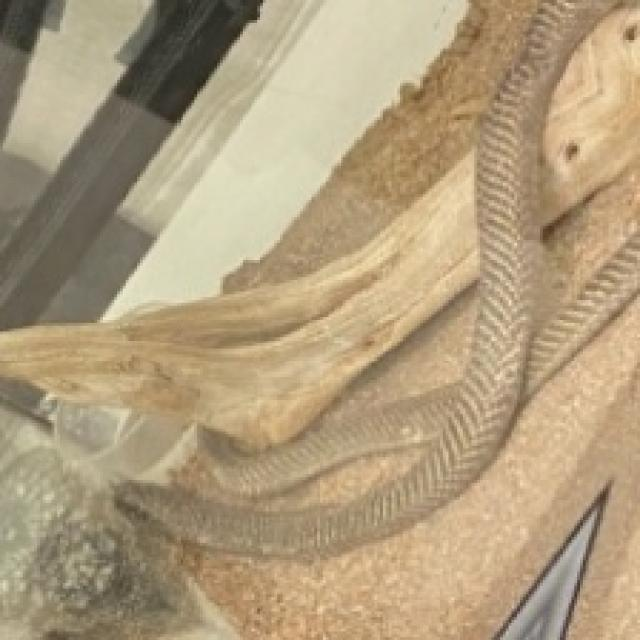philippine cobra: (119, 2, 640, 557), (122, 0, 611, 556)
